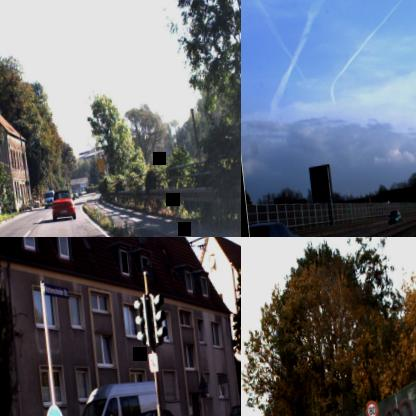give way: (100, 152, 108, 164)
keep right: (43, 403, 67, 416)
speed limit 80: (365, 400, 378, 416)
